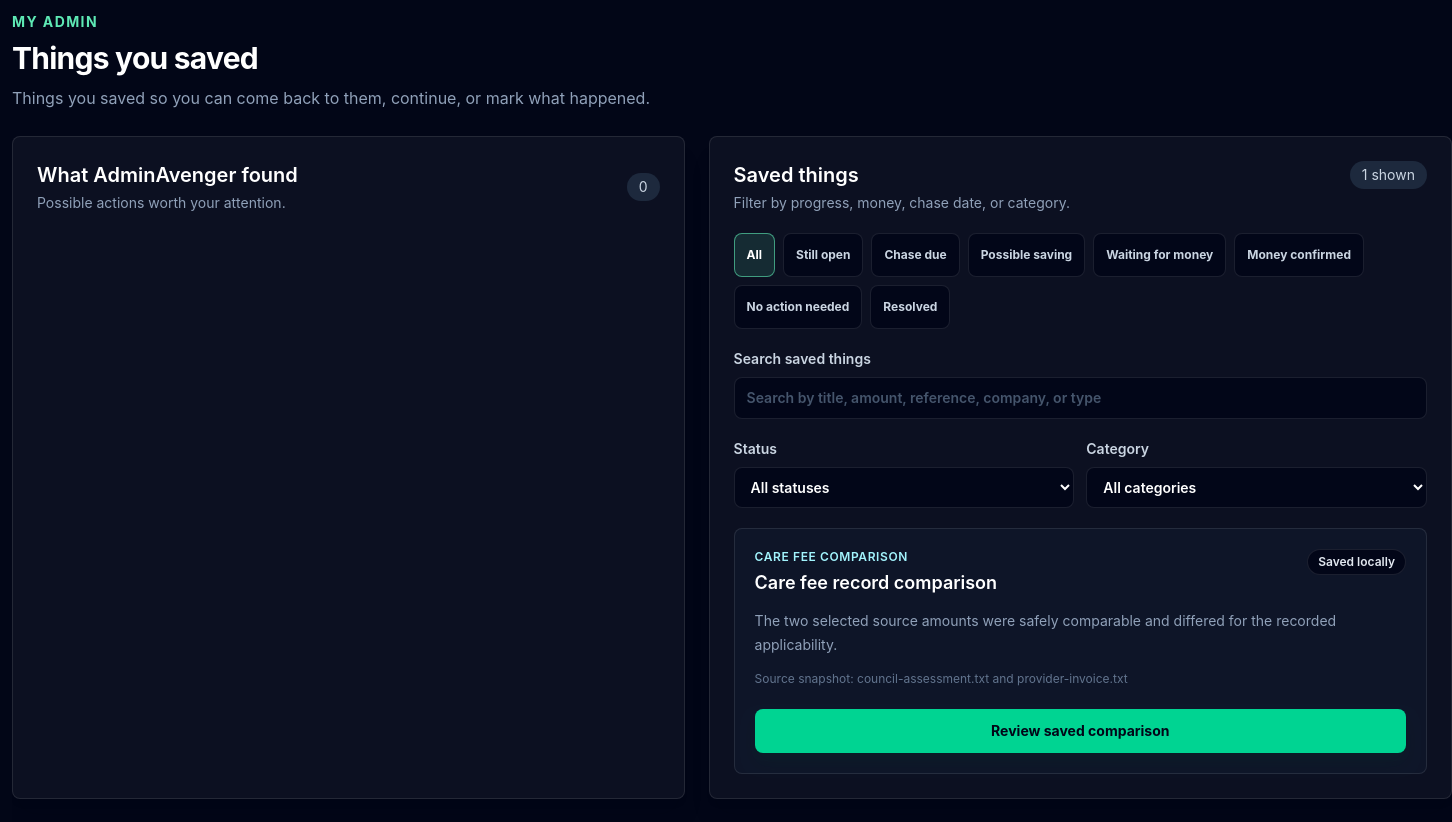
Test case: CasesView Care Fee cases › searches source snapshot names without converting the record to a generic case
The image size is (1452, 822).
In the search field: (1080, 398) [734, 377, 1427, 419], type "provider-invoice"
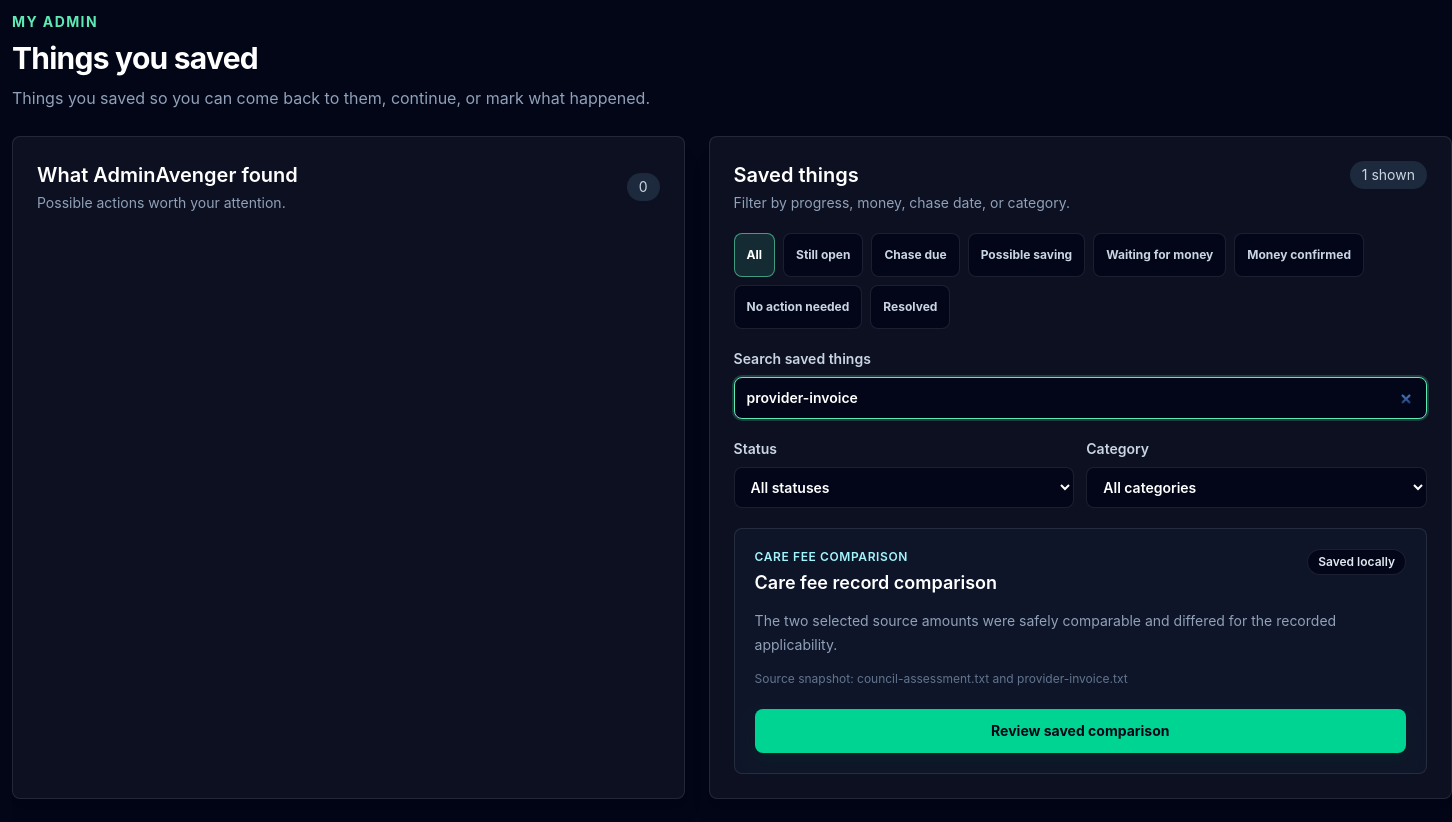
expect the heading "Care fee record comparison" is shown: met, box [755, 569, 997, 597]
Replace the text in the search field with "unrelated": (1080, 398) [734, 377, 1427, 419]
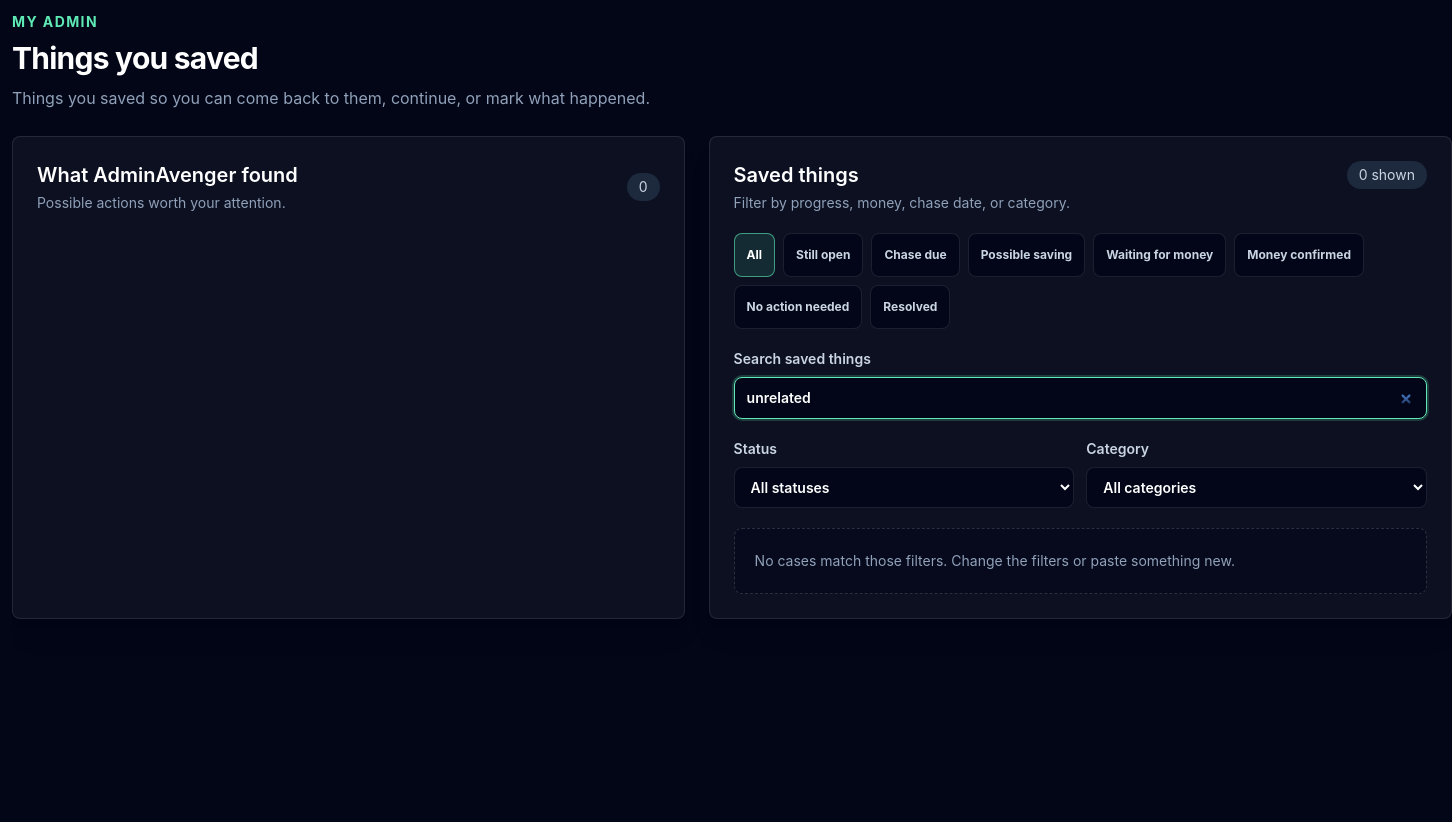
expect the heading "Care fee record comparison" is gone: met
